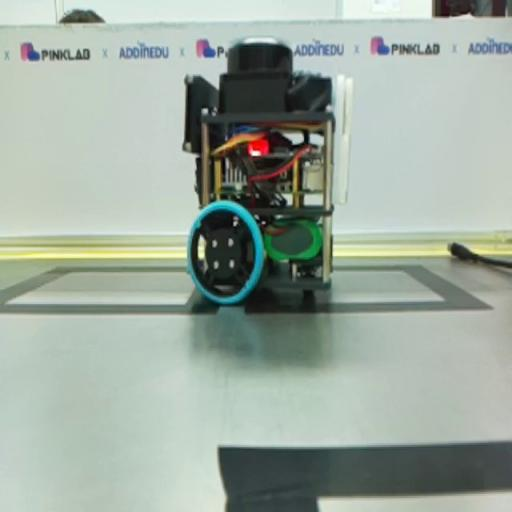pinky_63: (182, 36, 352, 304)
